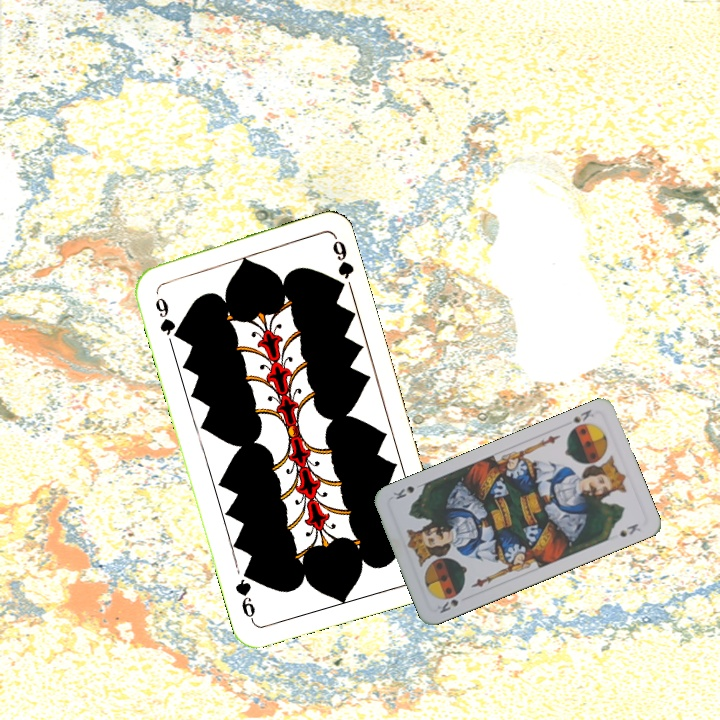G9: (151, 293, 182, 342)
SK: (433, 595, 461, 616), (568, 405, 596, 425)
